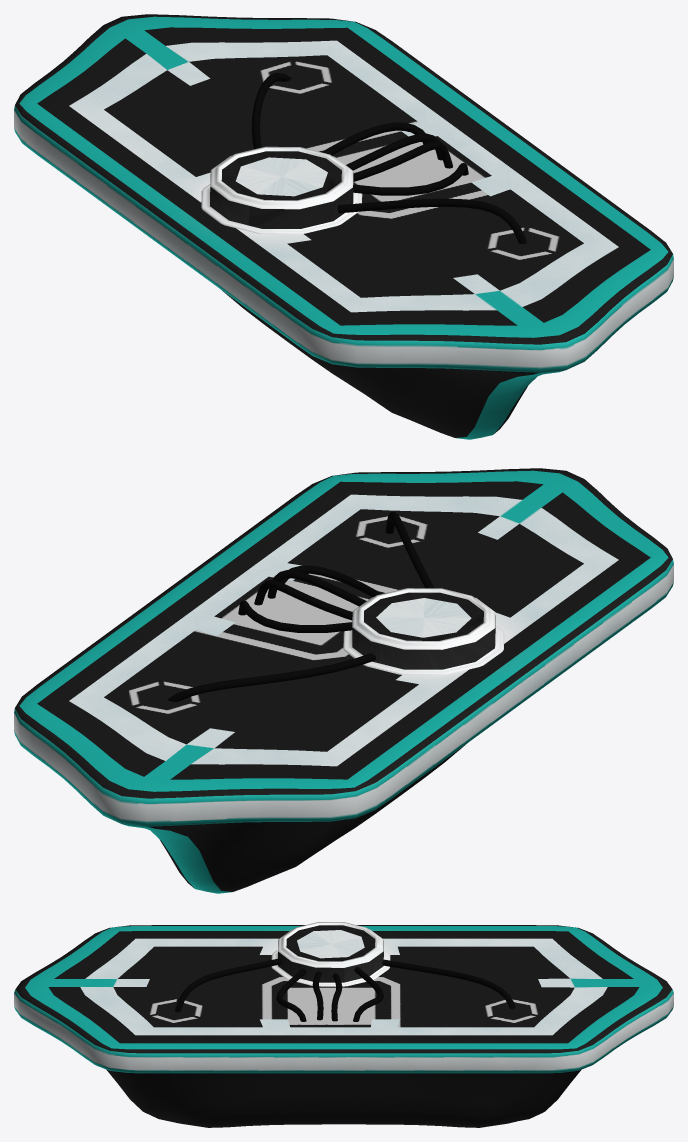
Rendered from table.fbx.
The picture shows the model from 3 angles, top to bottom: view 1: azimuth 30°, elevation 25°; view 2: azimuth 150°, elevation 25°; view 3: azimuth 270°, elevation 25°; orthographic projection. The views are drawn at different scales.
Visible parts, largest first — view 1: table.001, Creaturespawn, cables; view 2: table.001, Creaturespawn, cables; view 3: table.001, Creaturespawn, cables.
Boxes of the visible parts, left/top/right/bottom form: table.001: left=14, top=14, right=673, bottom=439; Creaturespawn: left=201, top=146, right=362, bottom=234; cables: left=251, top=73, right=526, bottom=243; table.001: left=14, top=468, right=673, bottom=893; Creaturespawn: left=343, top=588, right=504, bottom=675; cables: left=168, top=511, right=434, bottom=701; table.001: left=14, top=925, right=673, bottom=1127; Creaturespawn: left=271, top=922, right=390, bottom=986; cables: left=175, top=958, right=515, bottom=1021.
Bounding box in the file's own units: 200 × 113 × 433.
5 materials, 4 textured.
